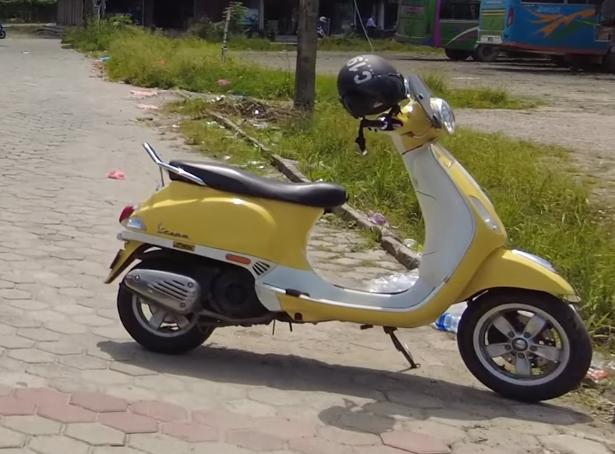scooter: (93, 60, 593, 407)
